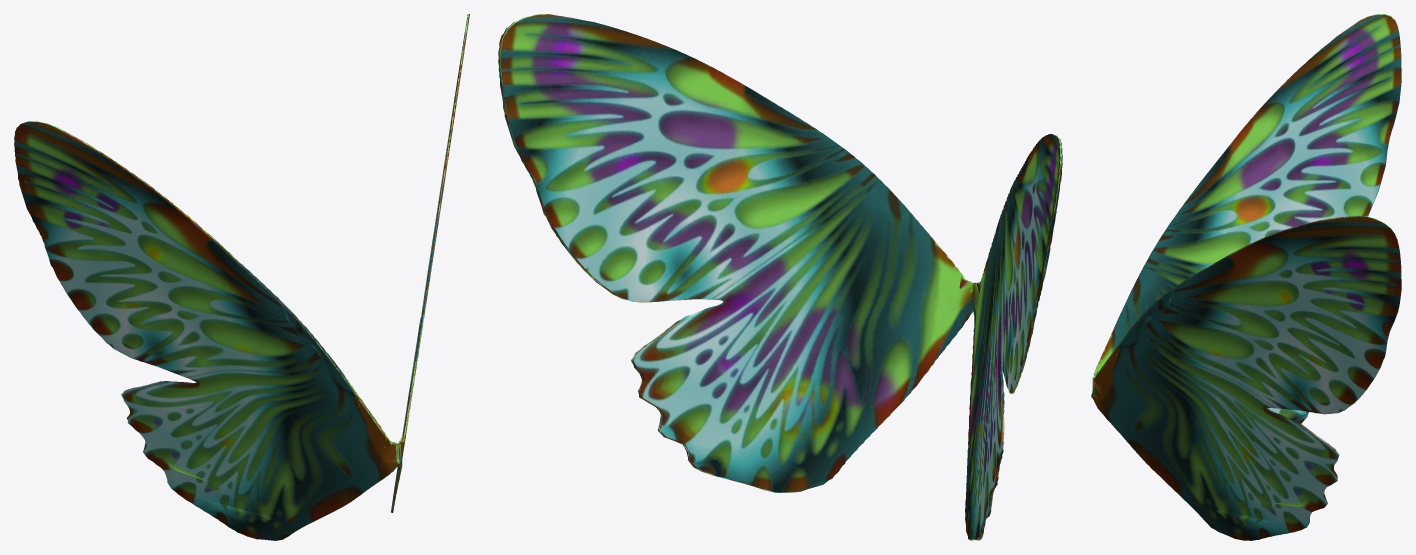
Rendered from butterflywings.glb.
The picture shows the model from 3 angles, left to right: view 1: azimuth 30°, elevation 25°; view 2: azimuth 150°, elevation 25°; view 3: azimuth 270°, elevation 25°; orthographic projection. The views are drawn at different scales.
Parts seen in each view (by area): view 1: butterflywings; view 2: butterflywings; view 3: butterflywings.
Part boxes in pixels (x1,y1,x2,y2): butterflywings: [14, 14, 469, 540]; butterflywings: [498, 14, 1062, 540]; butterflywings: [1091, 14, 1401, 540].
Size of the model in its own units: 1.16 by 0.9816 by 0.709.
Materials: 1 (1 with a texture image).
